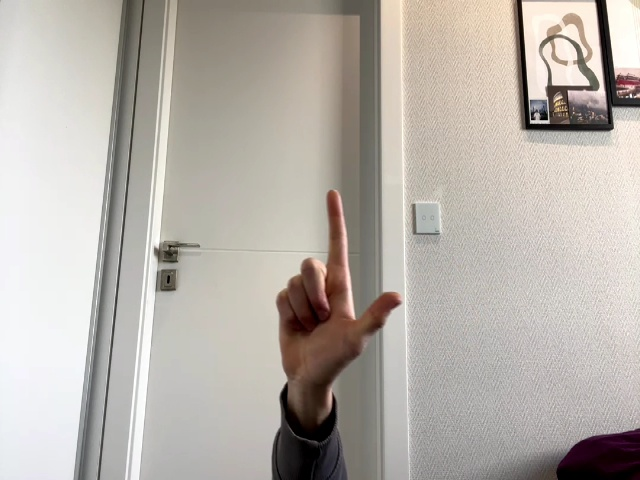L: (276, 190, 403, 387)
